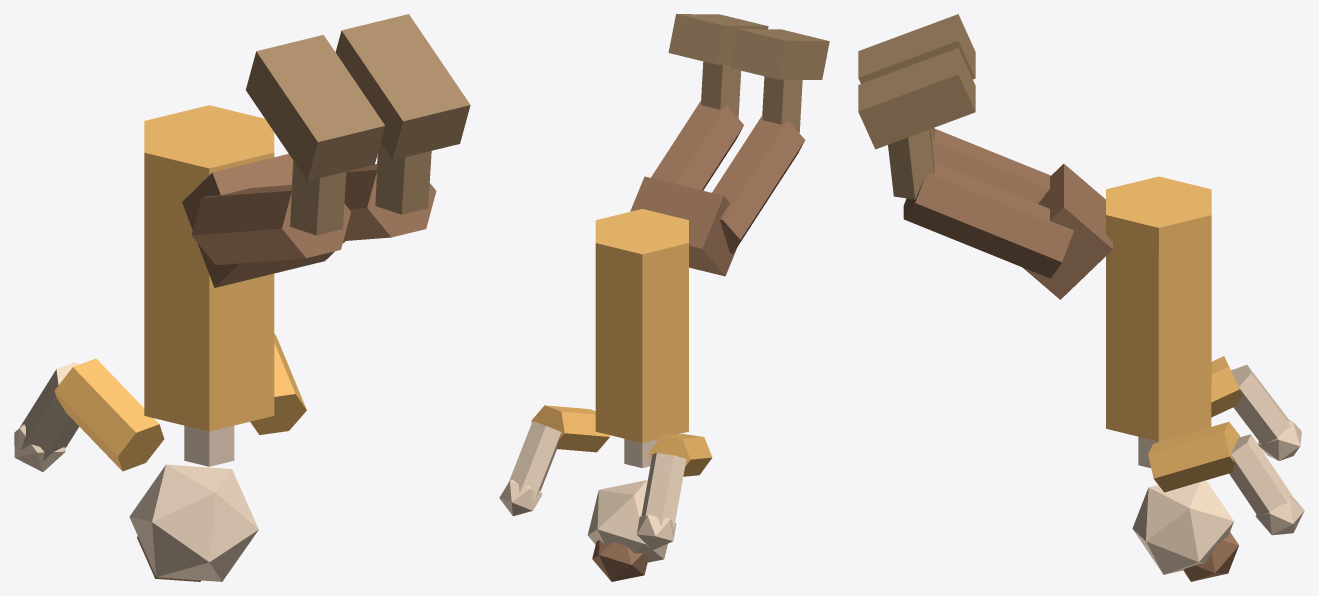
The model's file is pose_dodge_roll_26.glb.
3 renders of one model, left to right at view 1: azimuth 30°, elevation 25°; view 2: azimuth 150°, elevation 25°; view 3: azimuth 270°, elevation 25°, orthographic. The views are drawn at different scales.
Parts seen in each view (by area): view 1: pose; view 2: pose; view 3: pose.
Part boxes in pixels (x1,y1,x2,y2): pose: (14, 14, 470, 581); pose: (499, 14, 829, 581); pose: (858, 14, 1304, 581).
Size of the model in its own units: 0.49 by 1.3 by 0.9894.
